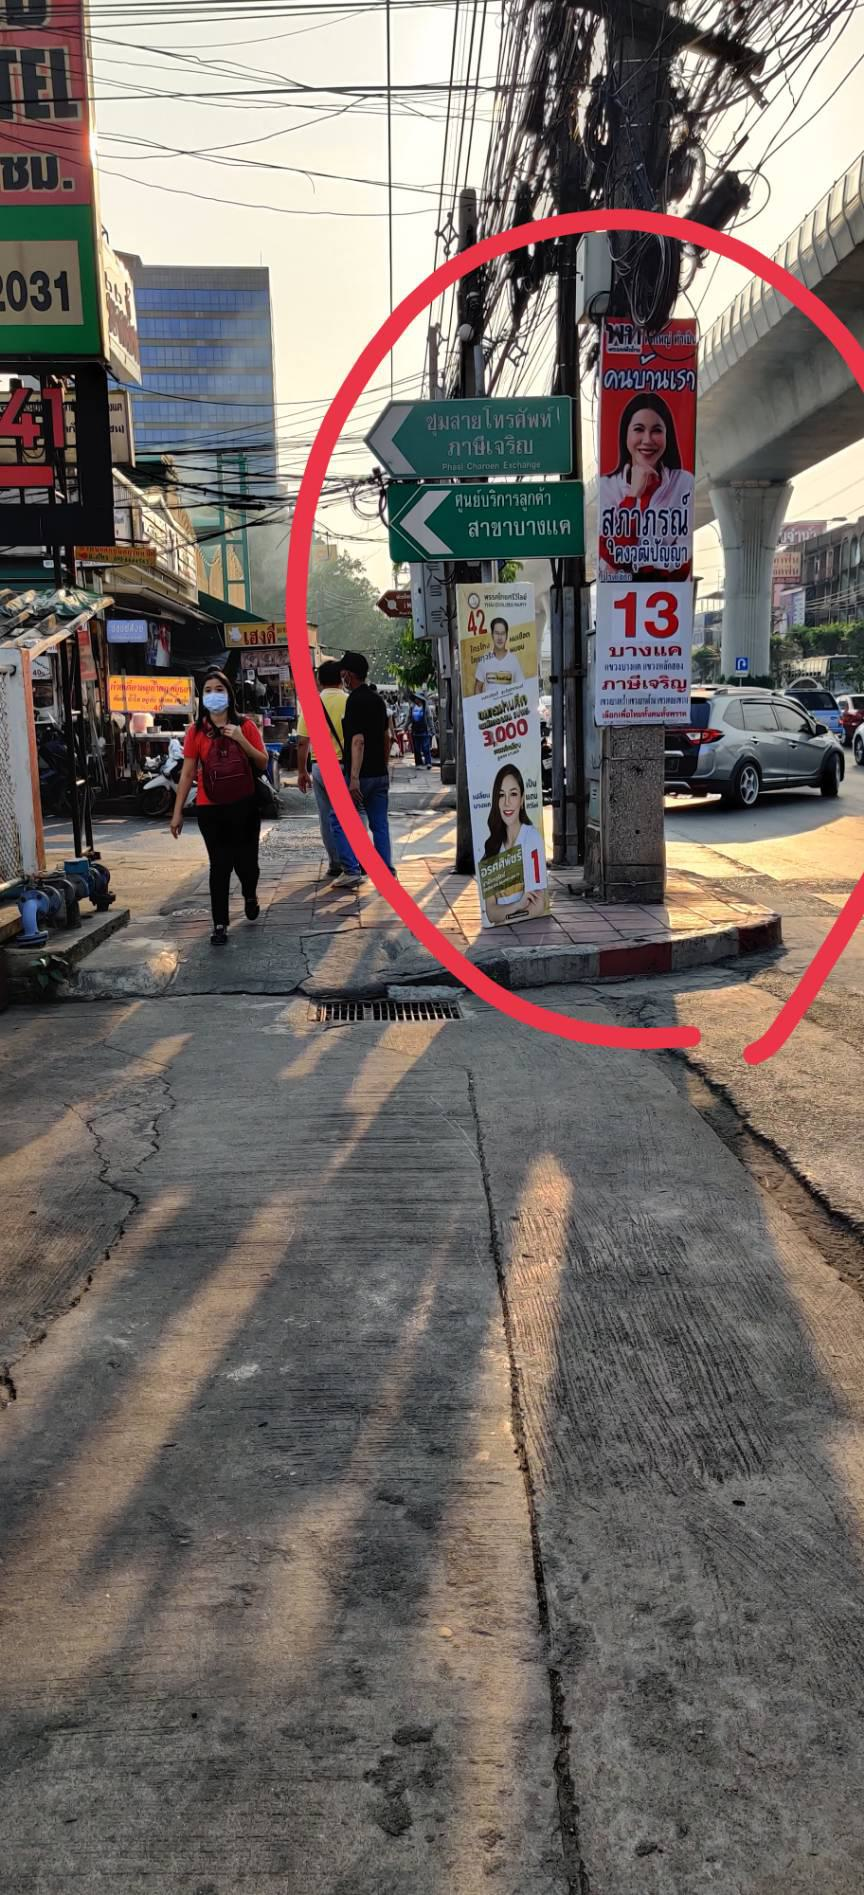Banner: (576, 305, 714, 730), (468, 587, 551, 946)
